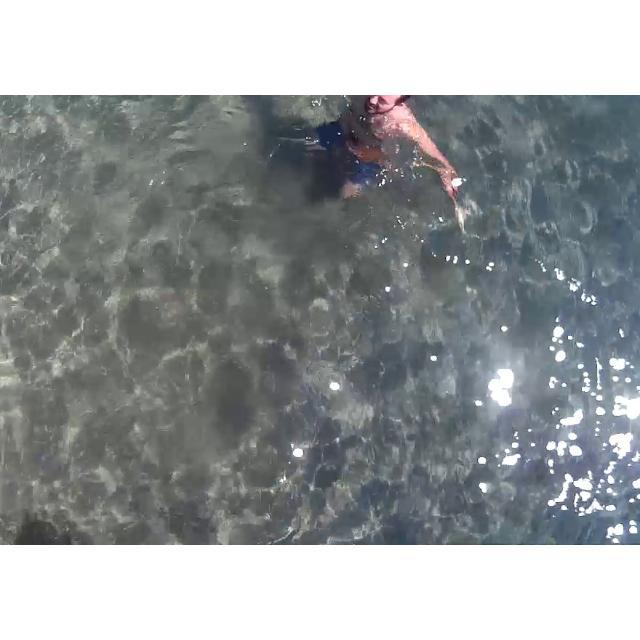human: (297, 95, 454, 201)
